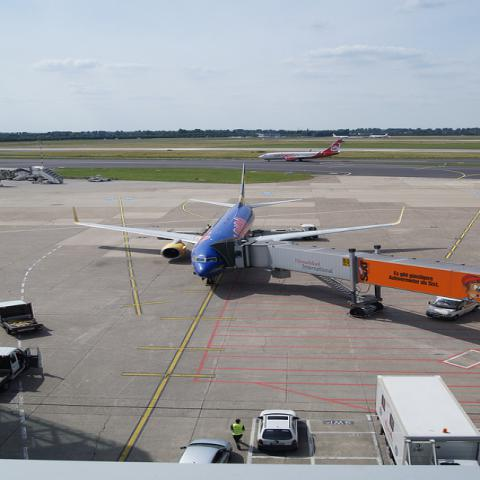car: (255, 409, 301, 453), (177, 438, 234, 464)
truck: (375, 376, 479, 468), (0, 346, 41, 388), (0, 300, 44, 334), (425, 296, 479, 321)
